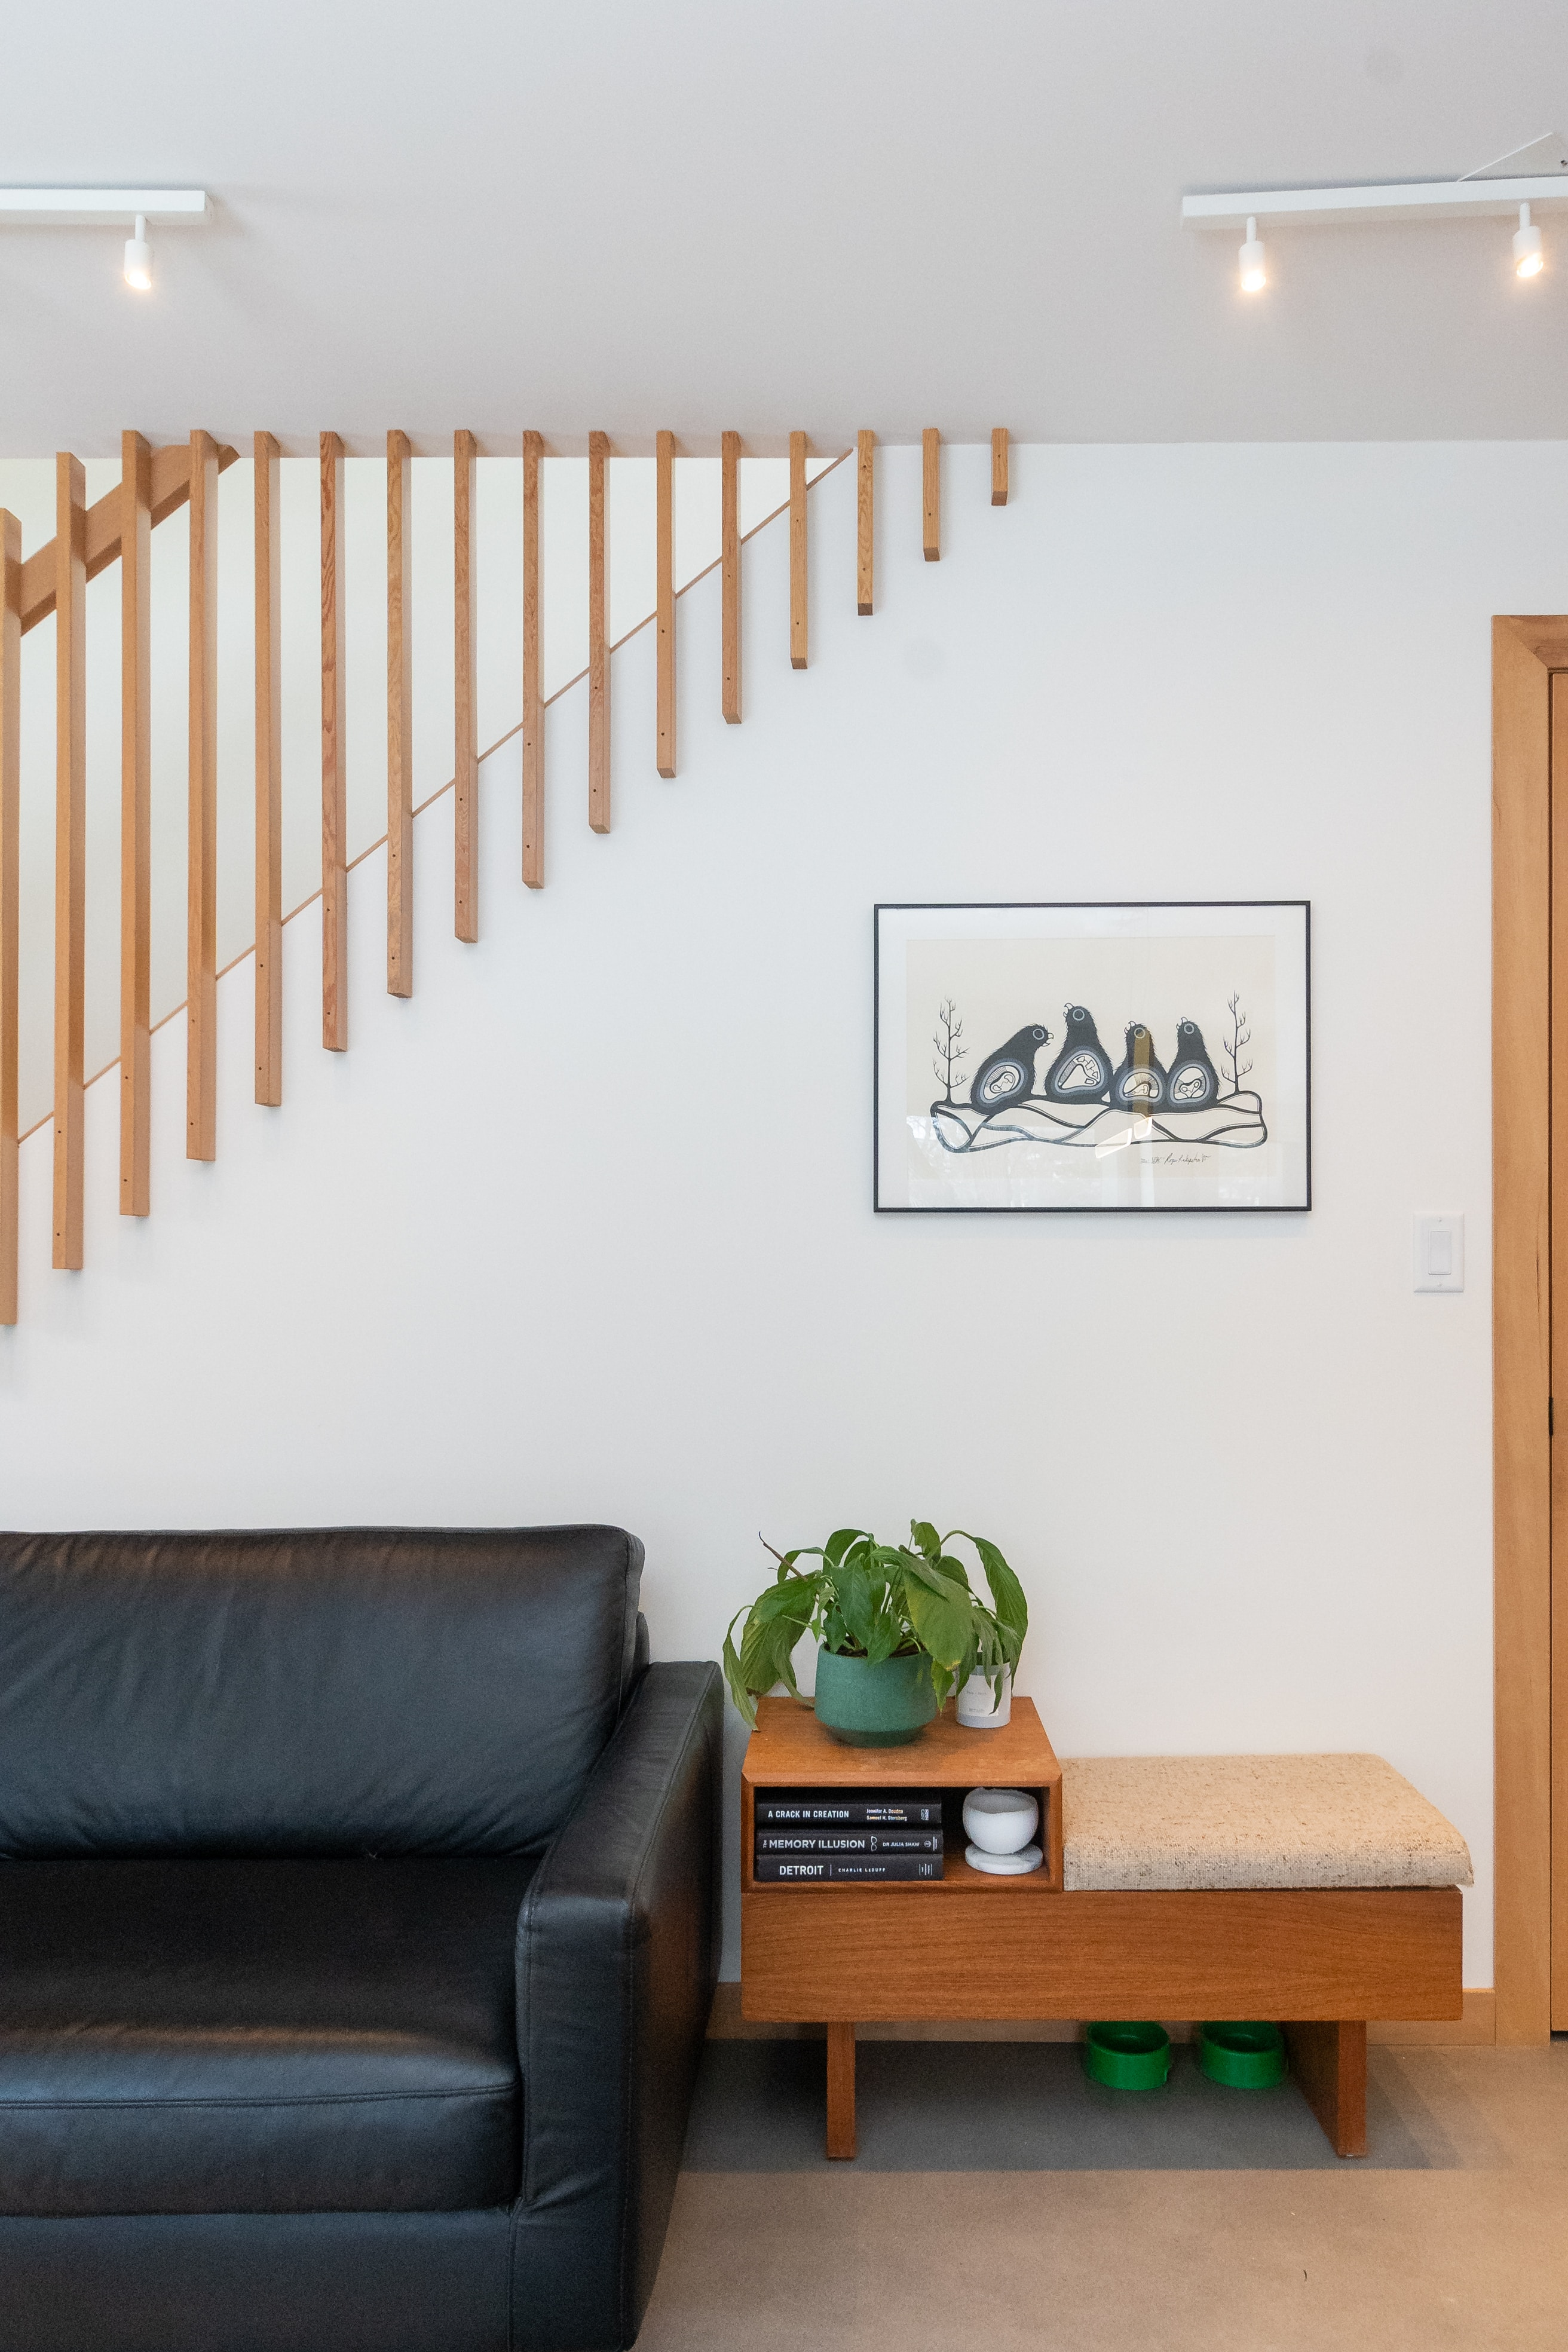Painting: (854, 880, 1340, 1230)
Plant: (723, 1505, 1025, 1757)
Sofa: (0, 1498, 756, 2326)
Table: (719, 1697, 1505, 2184)
